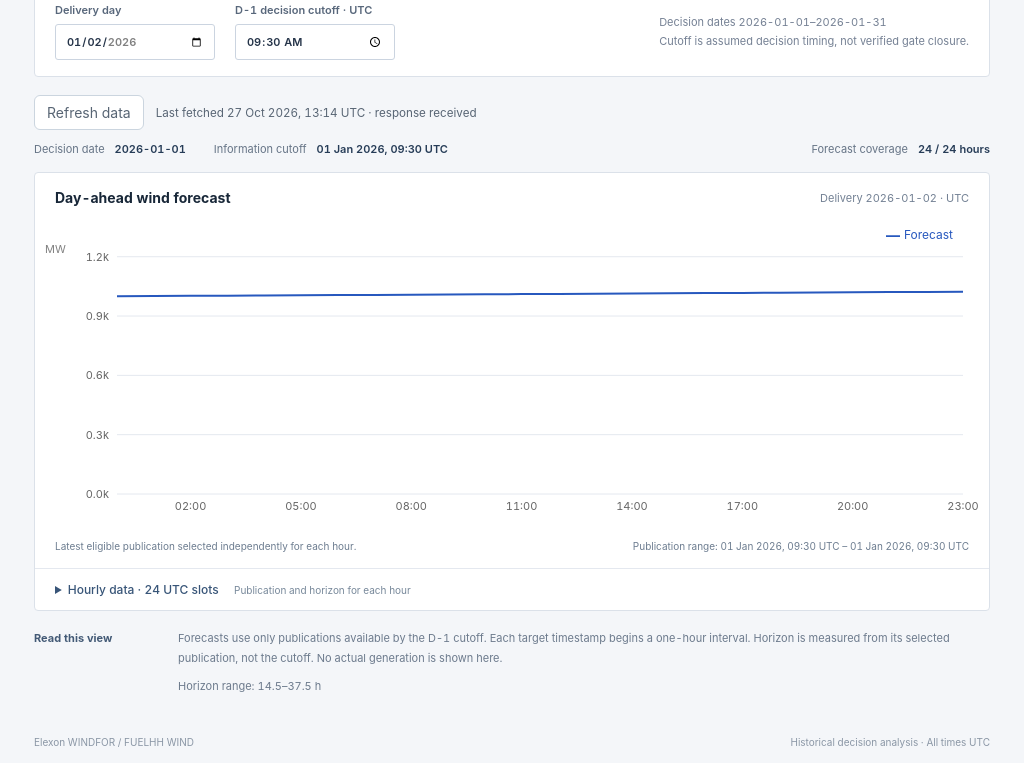
Scenario: loads metadata, shows decision-only UTC data and accessible publication table
(page scrolled)
Expected: the text "24 / 24 hours" is shown, [918, 142, 990, 156]
Expected: the text "2026-01-01" is shown, [115, 142, 186, 156]
Click the heading "Hourly data".
click(239, 590)  # box [68, 582, 411, 597]
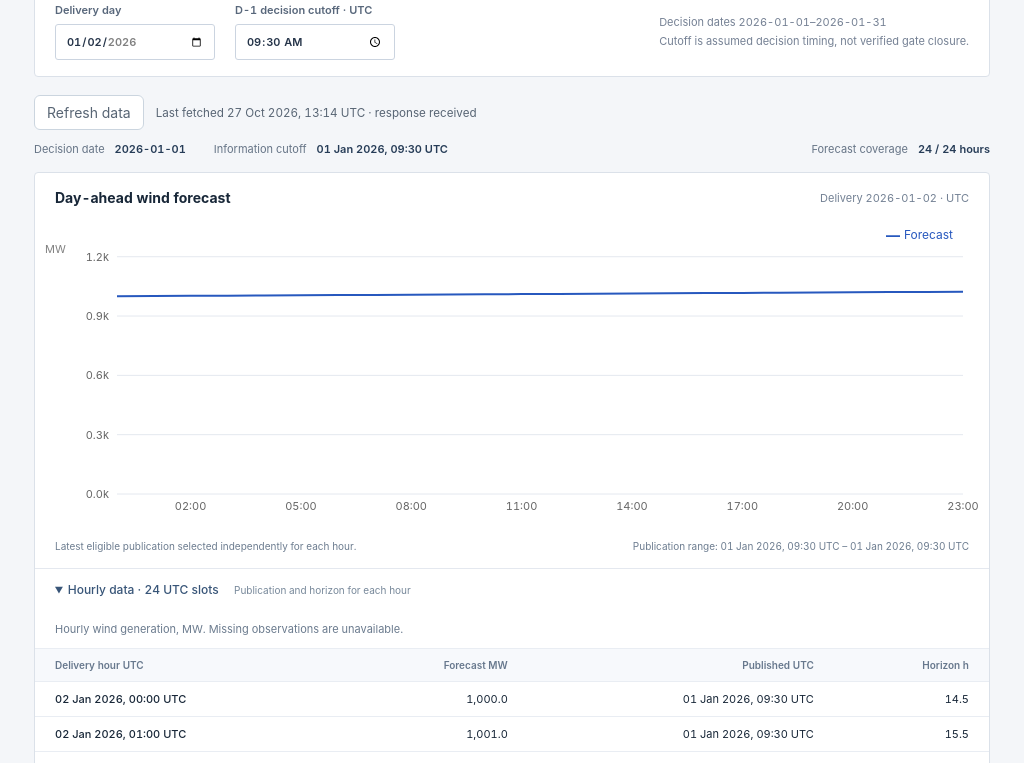
Now the column heading "Published UTC" is shown, box [528, 648, 834, 682]
